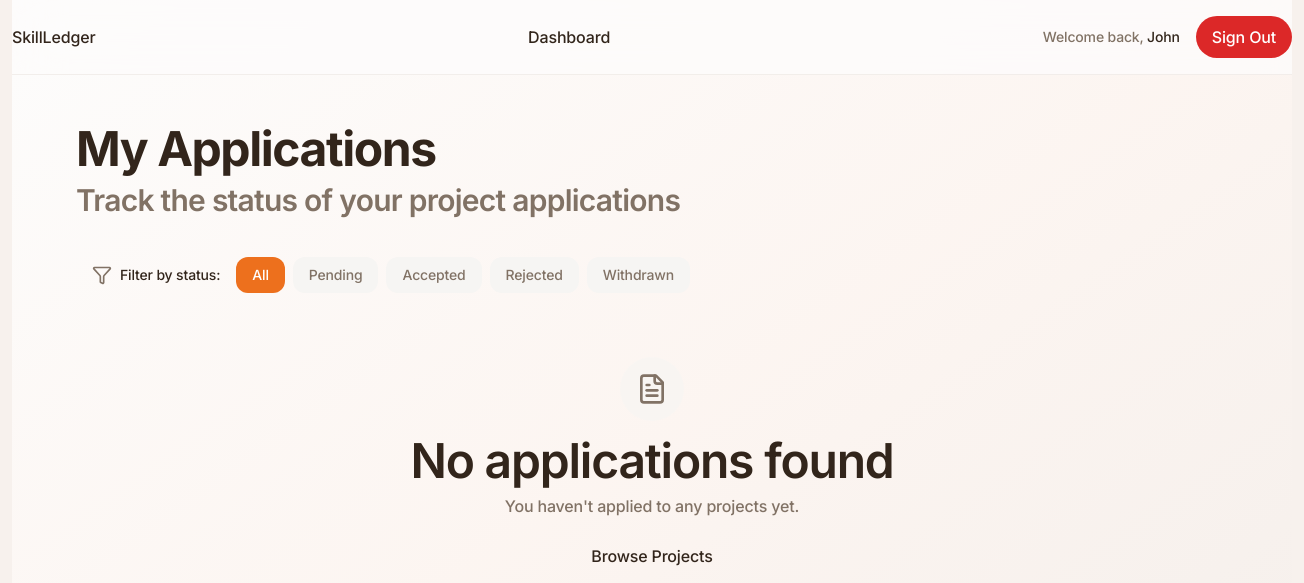
MyApplicationsPage - Empty & Error States › should show filtered empty state message
Expected: the text "Filter by status:" is shown, x1=120 y1=264 x2=220 y2=284
Click on "Pending" filter
Click the button "Pending". click: (336, 274)
box: x1=293 y1=256 x2=378 y2=292
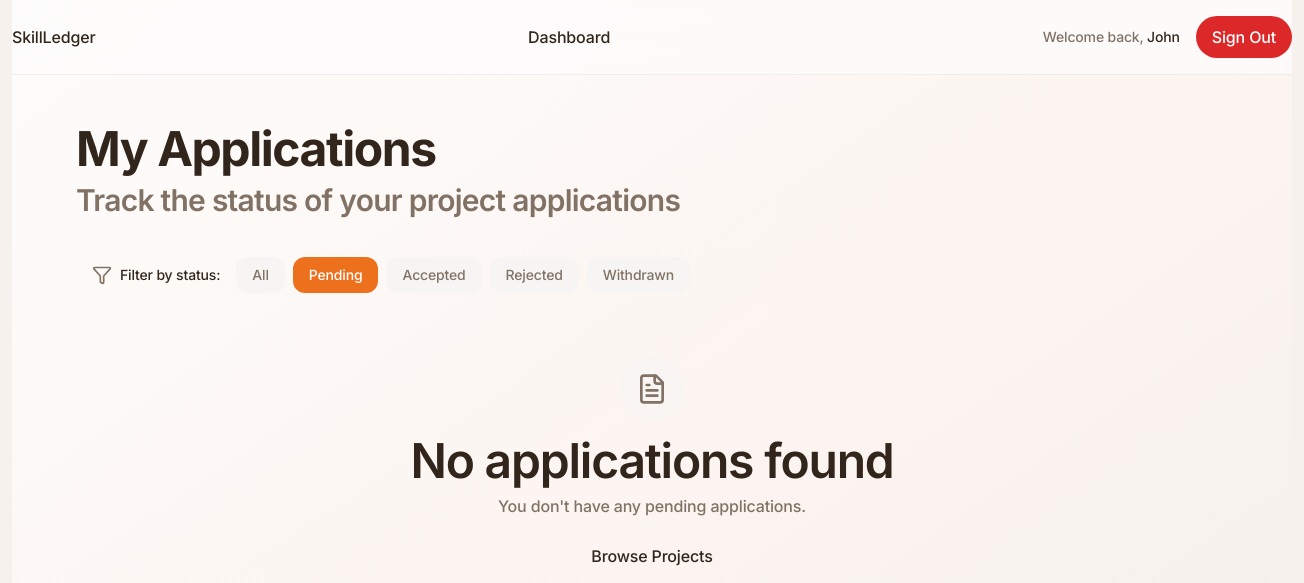
Result: the text "You don't have any pending applications." is shown at x1=498 y1=496 x2=806 y2=516
